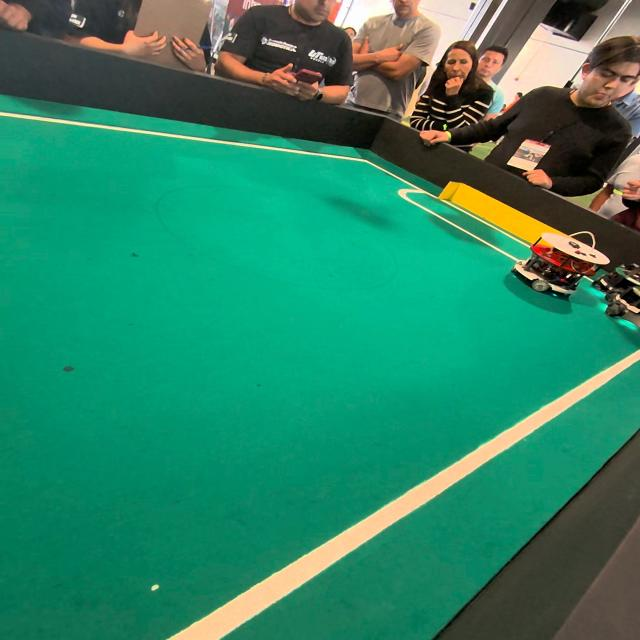Robot: (508, 234, 595, 305), (595, 255, 640, 344)
